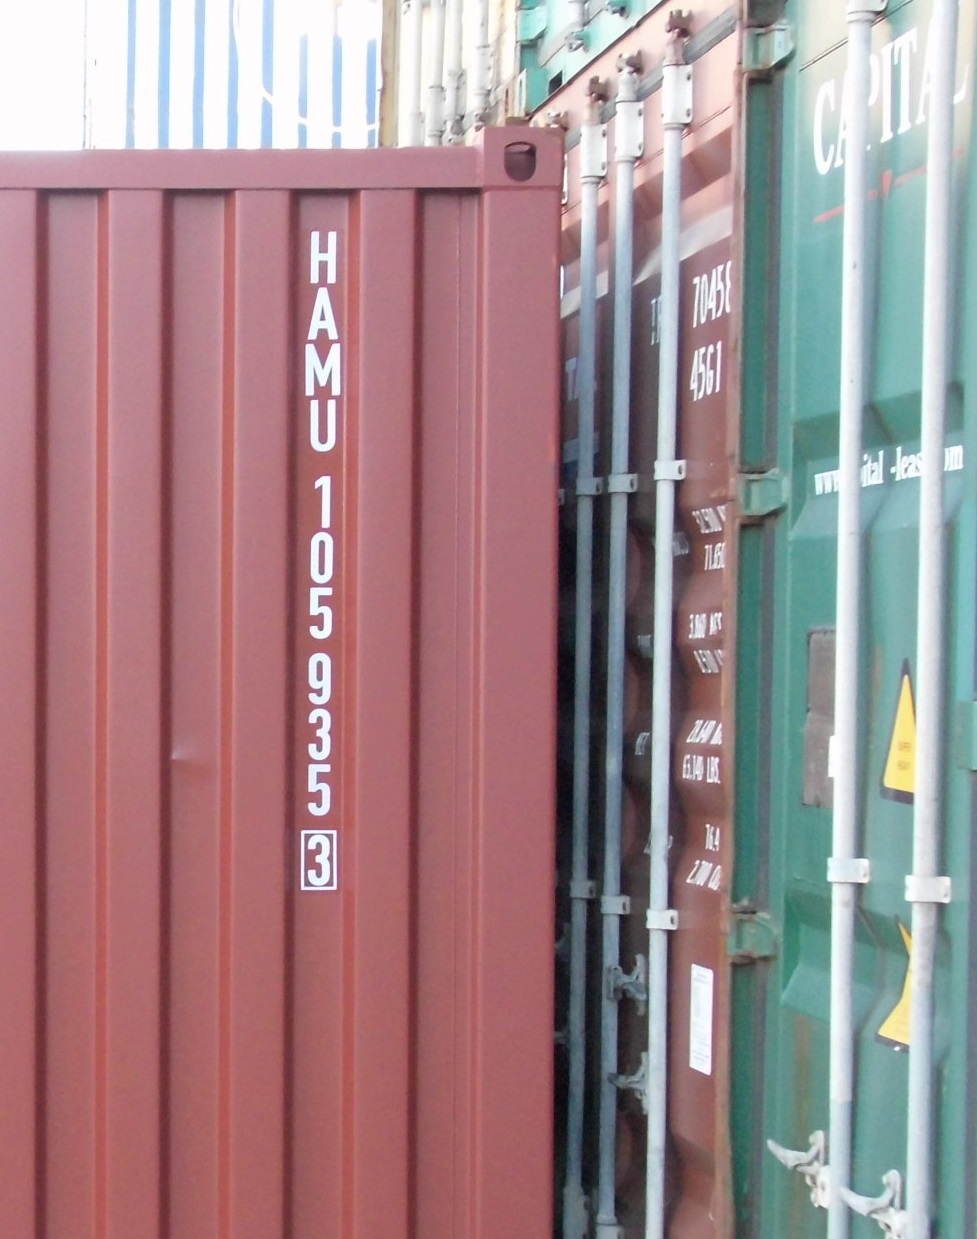container_door: (742, 6, 969, 1232), (569, 56, 726, 1232)
container_no_door: (5, 144, 551, 1238)
